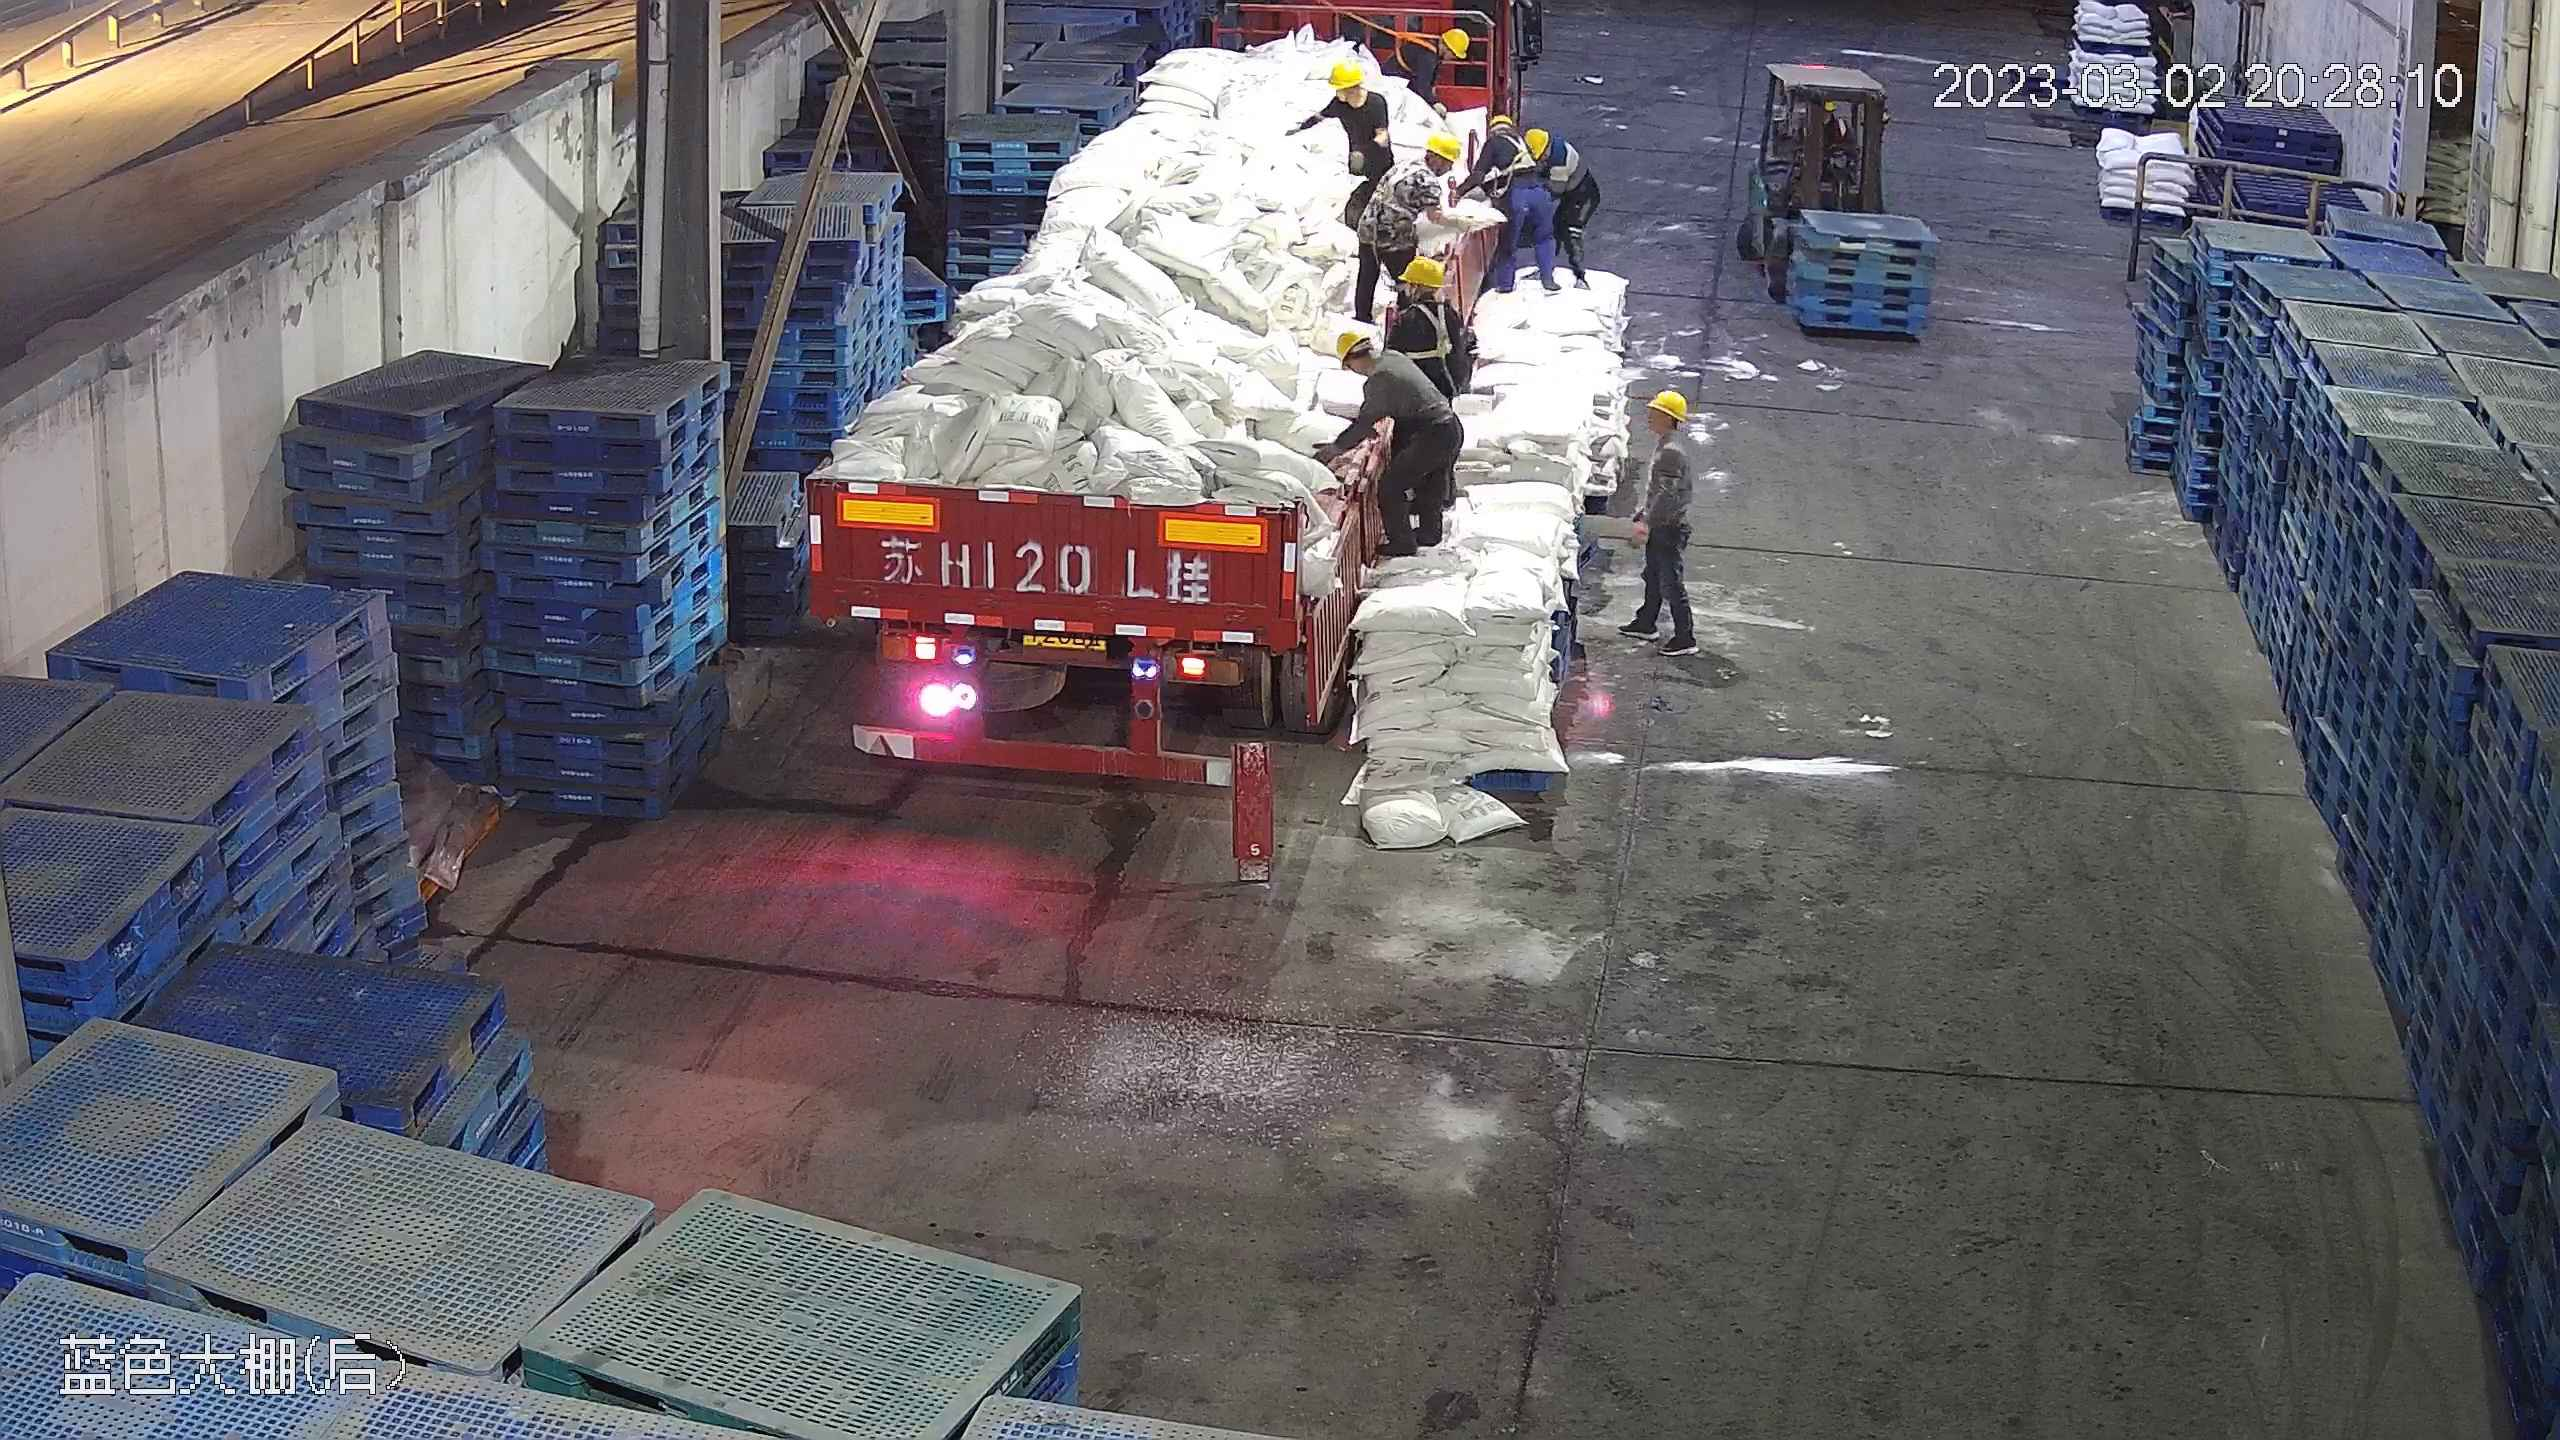belt: (1393, 296, 1467, 372), (1369, 157, 1423, 221), (1475, 125, 1533, 176), (1379, 18, 1433, 67)
head: (1328, 327, 1417, 402), (1382, 252, 1460, 337), (1378, 130, 1470, 203), (1631, 387, 1699, 476), (1317, 58, 1389, 125), (1481, 119, 1558, 176), (1517, 125, 1576, 176), (1421, 26, 1470, 66)
helmet: (1400, 252, 1451, 288), (1332, 327, 1376, 367), (1424, 129, 1464, 163), (1647, 388, 1691, 421), (1327, 59, 1368, 89), (1444, 27, 1471, 57), (1523, 126, 1549, 158), (1485, 111, 1513, 126)
people: (1324, 312, 1463, 562), (1337, 116, 1468, 340), (1618, 385, 1713, 660), (1453, 122, 1558, 333), (1487, 121, 1596, 305), (1313, 39, 1394, 284)
truck: (794, 4, 1473, 795)
